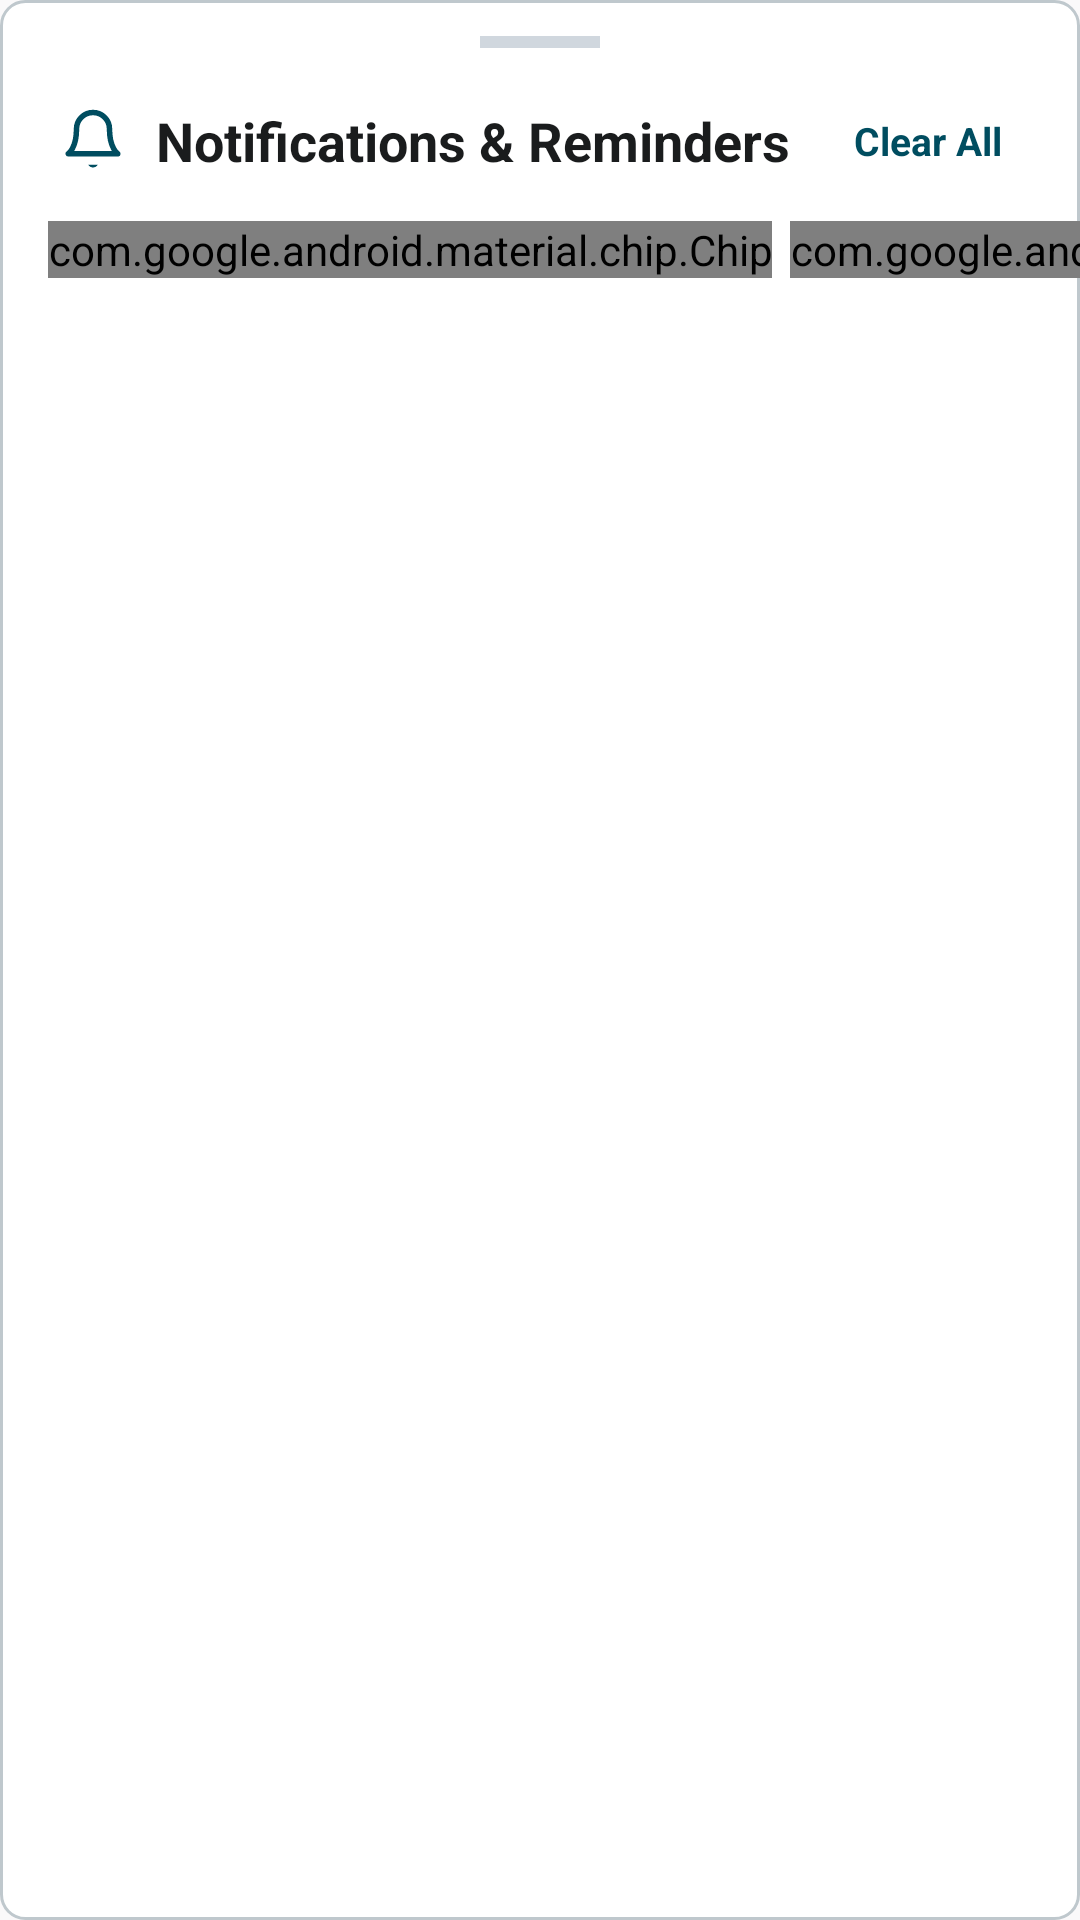

Screen size 1080×1920. Icon name, then its center in pixels as (x,y):
bell: (93,138)
